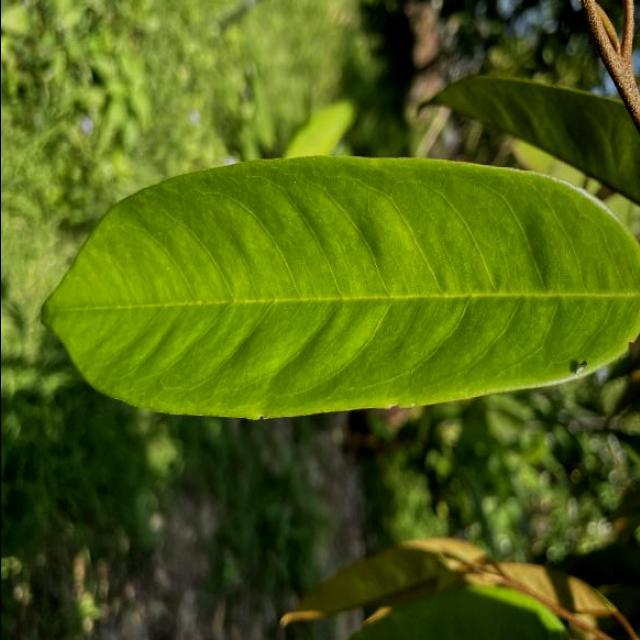No Disease: (20, 124, 640, 464)
